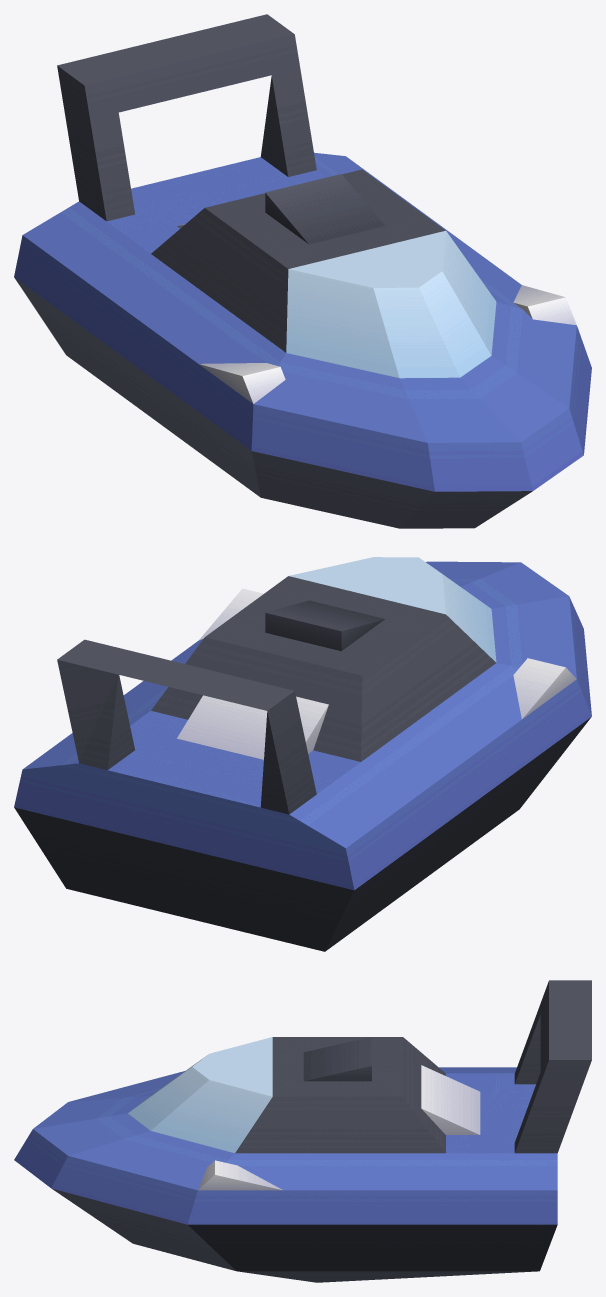
Rendered from boat-speed.glb.
3 renders of one model, top to bottom at view 1: azimuth 30°, elevation 25°; view 2: azimuth 150°, elevation 25°; view 3: azimuth 270°, elevation 25°, orthographic. The views are drawn at different scales.
Parts seen in each view (by area): view 1: boat-speed-a; view 2: boat-speed-a; view 3: boat-speed-a.
Part boxes in pixels (left/top/right/bottom): boat-speed-a: left=14, top=14, right=591, bottom=528; boat-speed-a: left=14, top=557, right=591, bottom=951; boat-speed-a: left=14, top=980, right=591, bottom=1282.
Size of the model in its own units: 1.78 by 1.5 by 3.37.
Materials: 1 (1 with a texture image).
